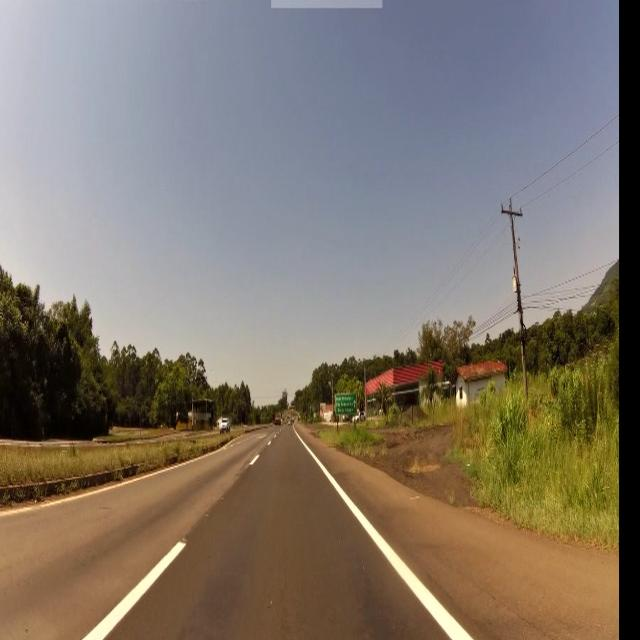R-19: (335, 394, 358, 416)
